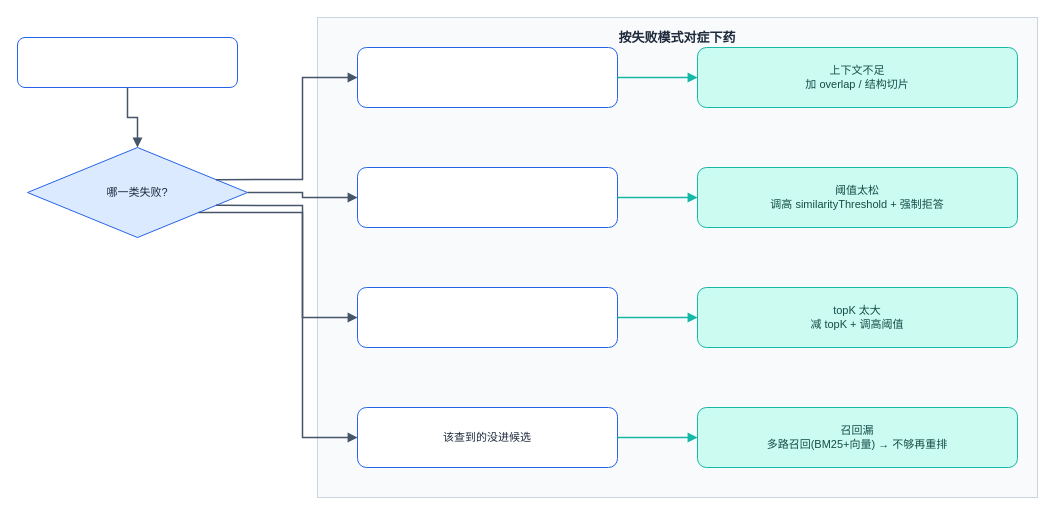
Image size: 1055x515. Some labels were removed from this diagram. The shapes that lost their labels are listed below. From the top down, each one's centre as x and y in pixels, then its label:
At point (127, 62): "召回率上不去".
At point (487, 77): "检索到了但答错".
At point (487, 197): "没检索到但瞎编".
At point (487, 317): "召回太多、模型选错".
